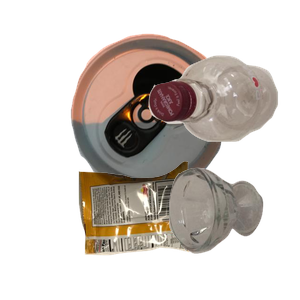glass: (166, 165, 300, 300)
metal: (68, 31, 288, 211)
plastic: (146, 53, 300, 187)
trash: (76, 159, 259, 300)
